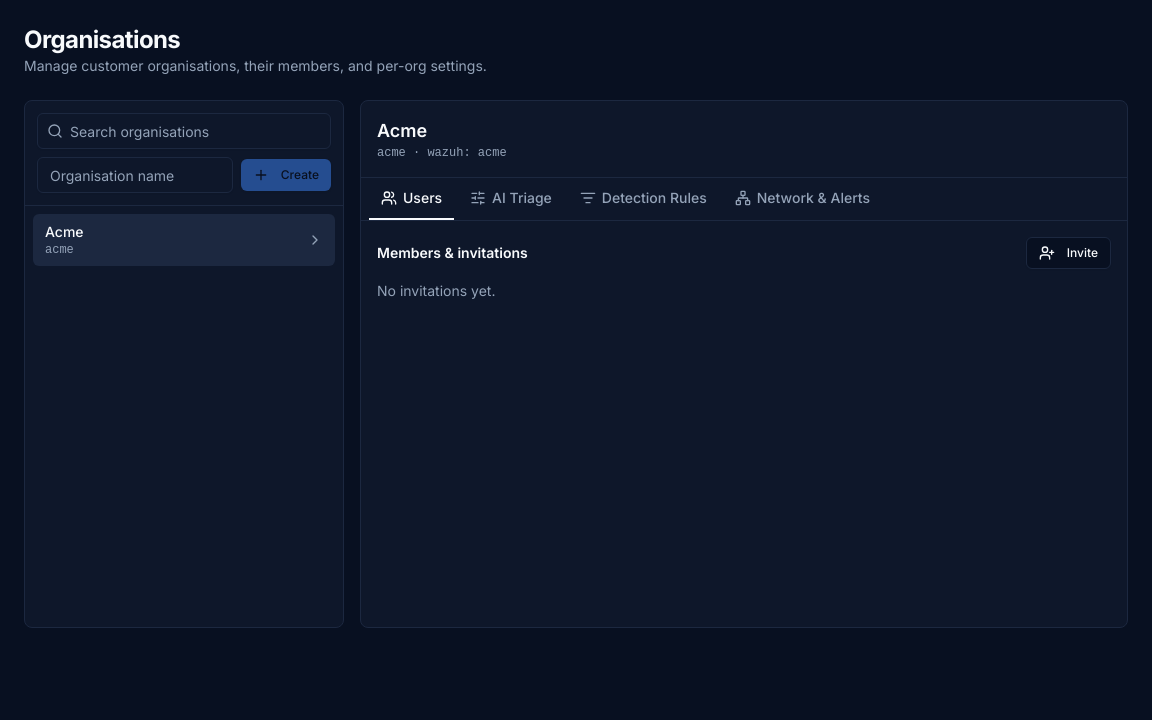
OrgManagement › Detection Rules tab — system rule mute › shows system rules in the section
This screenshot has width=1152, height=720.
Expected: the heading "Acme" is shown, x1=377 y1=117 x2=427 y2=145
Click the button "Detection Rules".
click(643, 199)  # box x1=568 y1=178 x2=719 y2=220
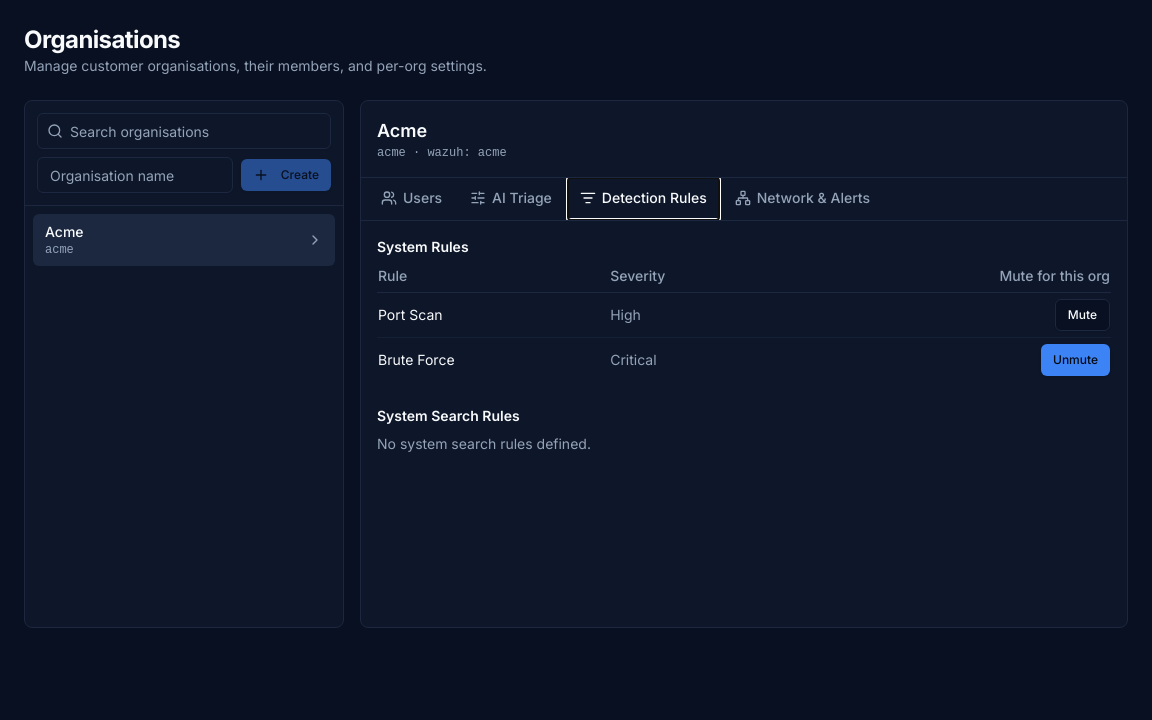
Now the text "Port Scan" is shown, box x1=377 y1=292 x2=609 y2=338
Now the text "Brute Force" is shown, box x1=377 y1=338 x2=609 y2=382
